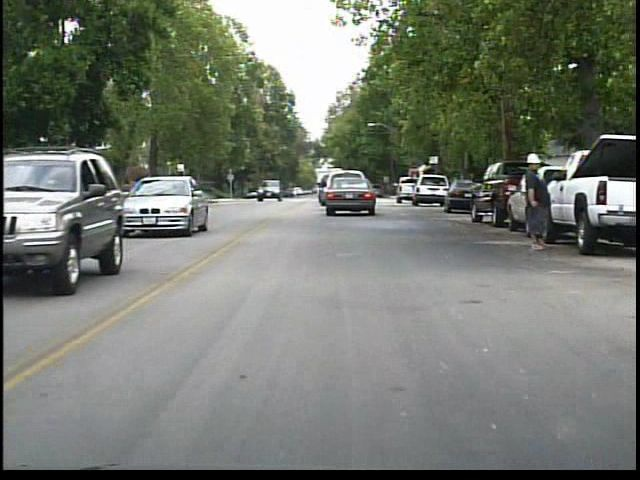person: (515, 147, 555, 254)
